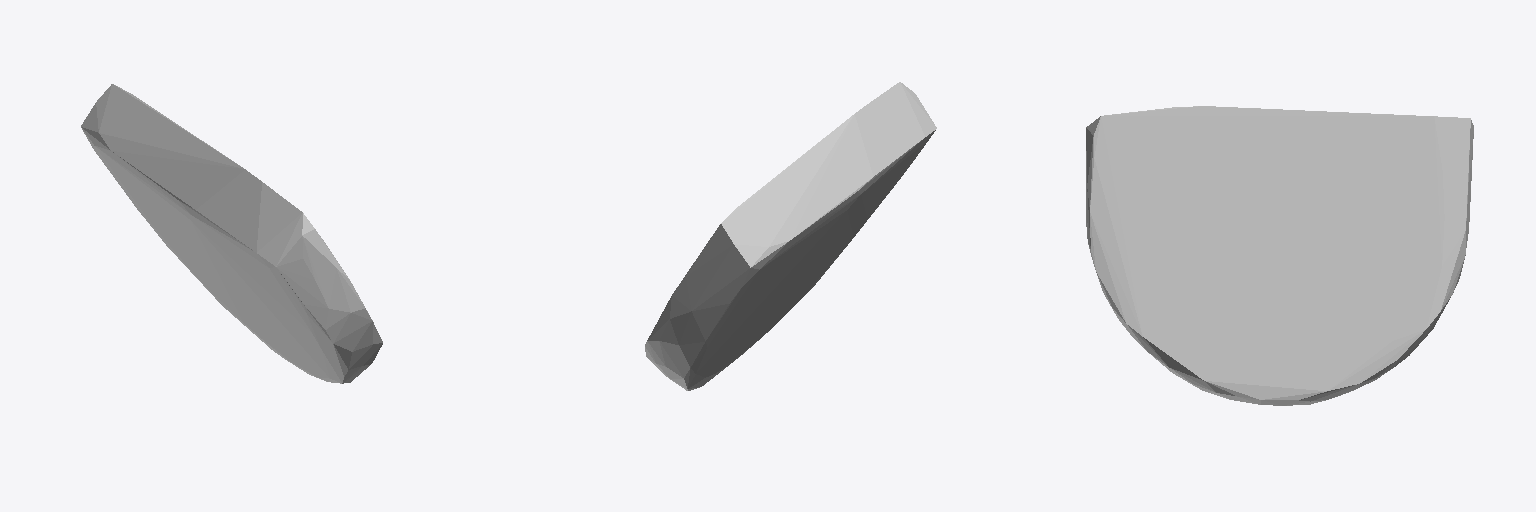
Rendered from top_mesh_300.obj.
3 renders of one model, left to right at view 1: azimuth 30°, elevation 25°; view 2: azimuth 150°, elevation 25°; view 3: azimuth 270°, elevation 25°, orthographic.
Size of the model in its own units: 30.8 by 44.54 by 62.01.